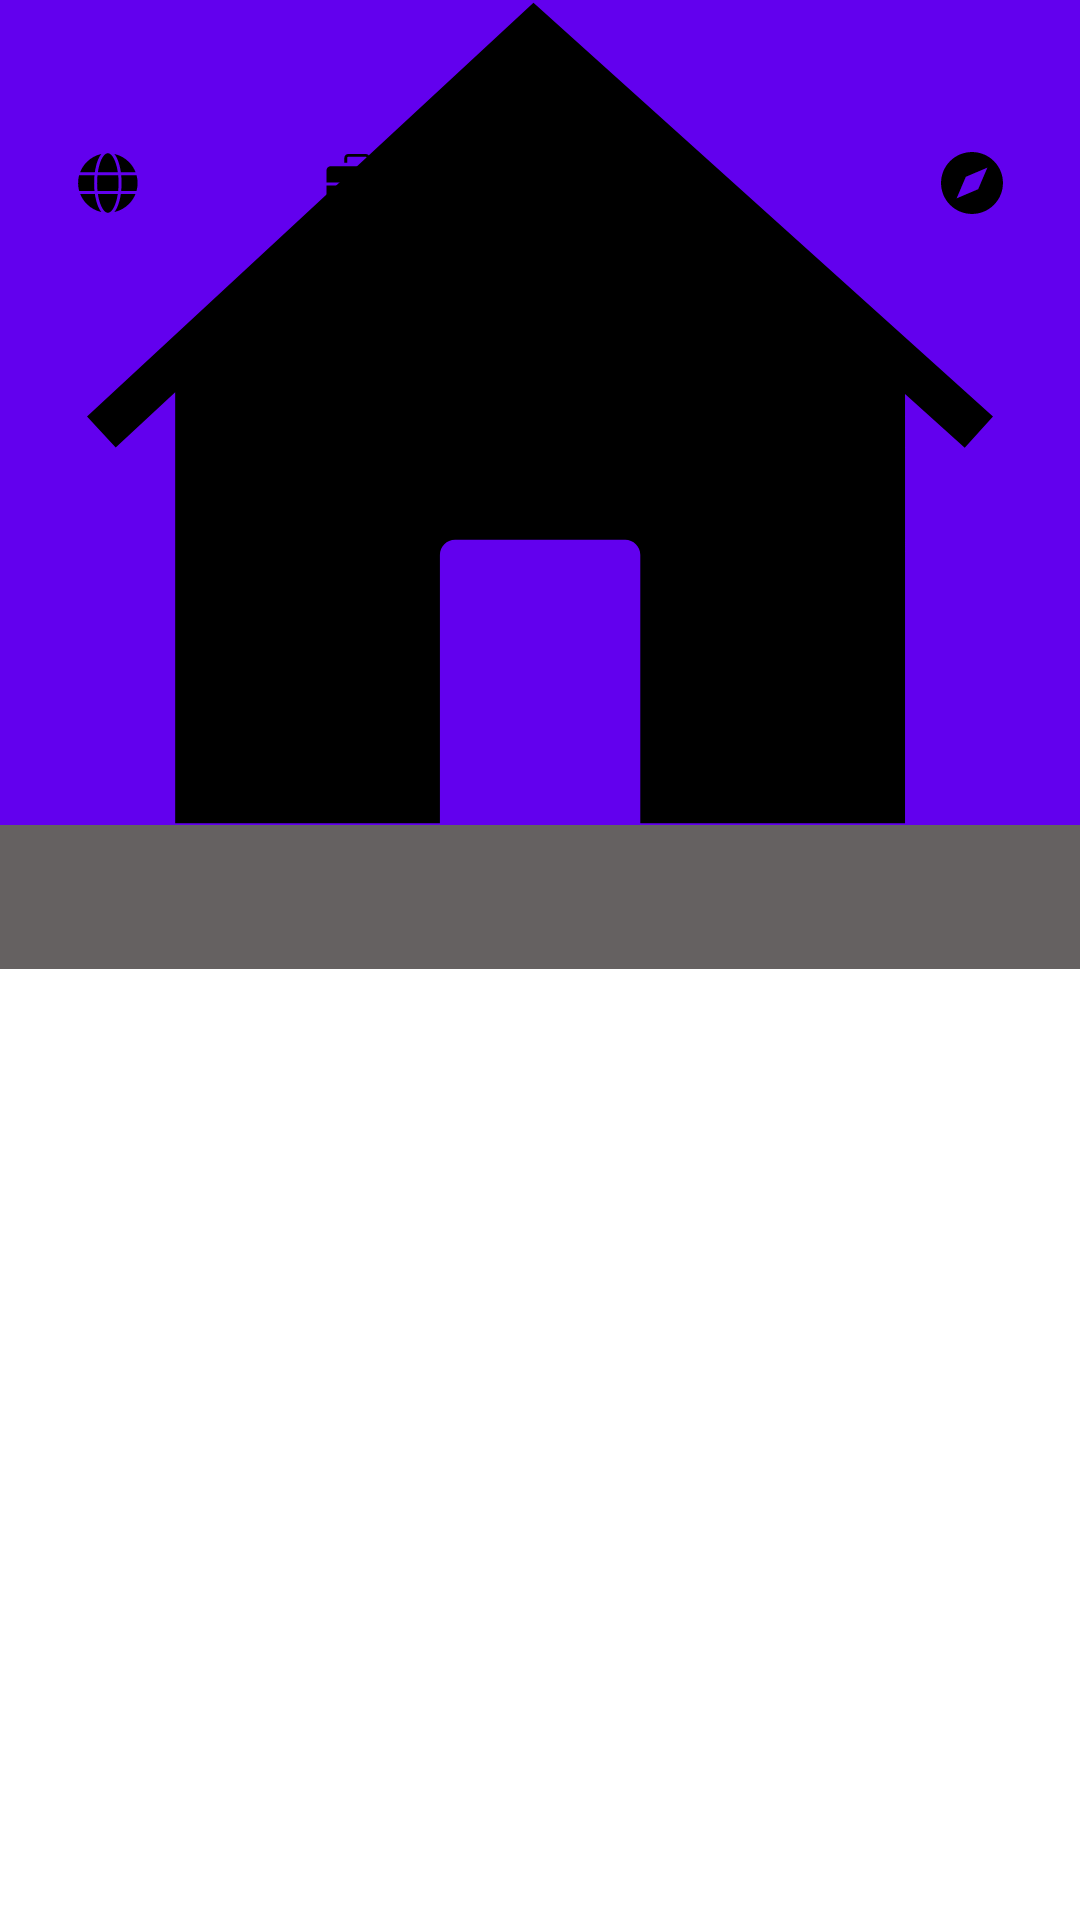

Screen size 1080 × 1920. Icon name, then its box in pixels as Rect(x1, y1, x2, y2):
navigation: Rect(941, 152, 1003, 214)
project: Rect(321, 147, 378, 200)
